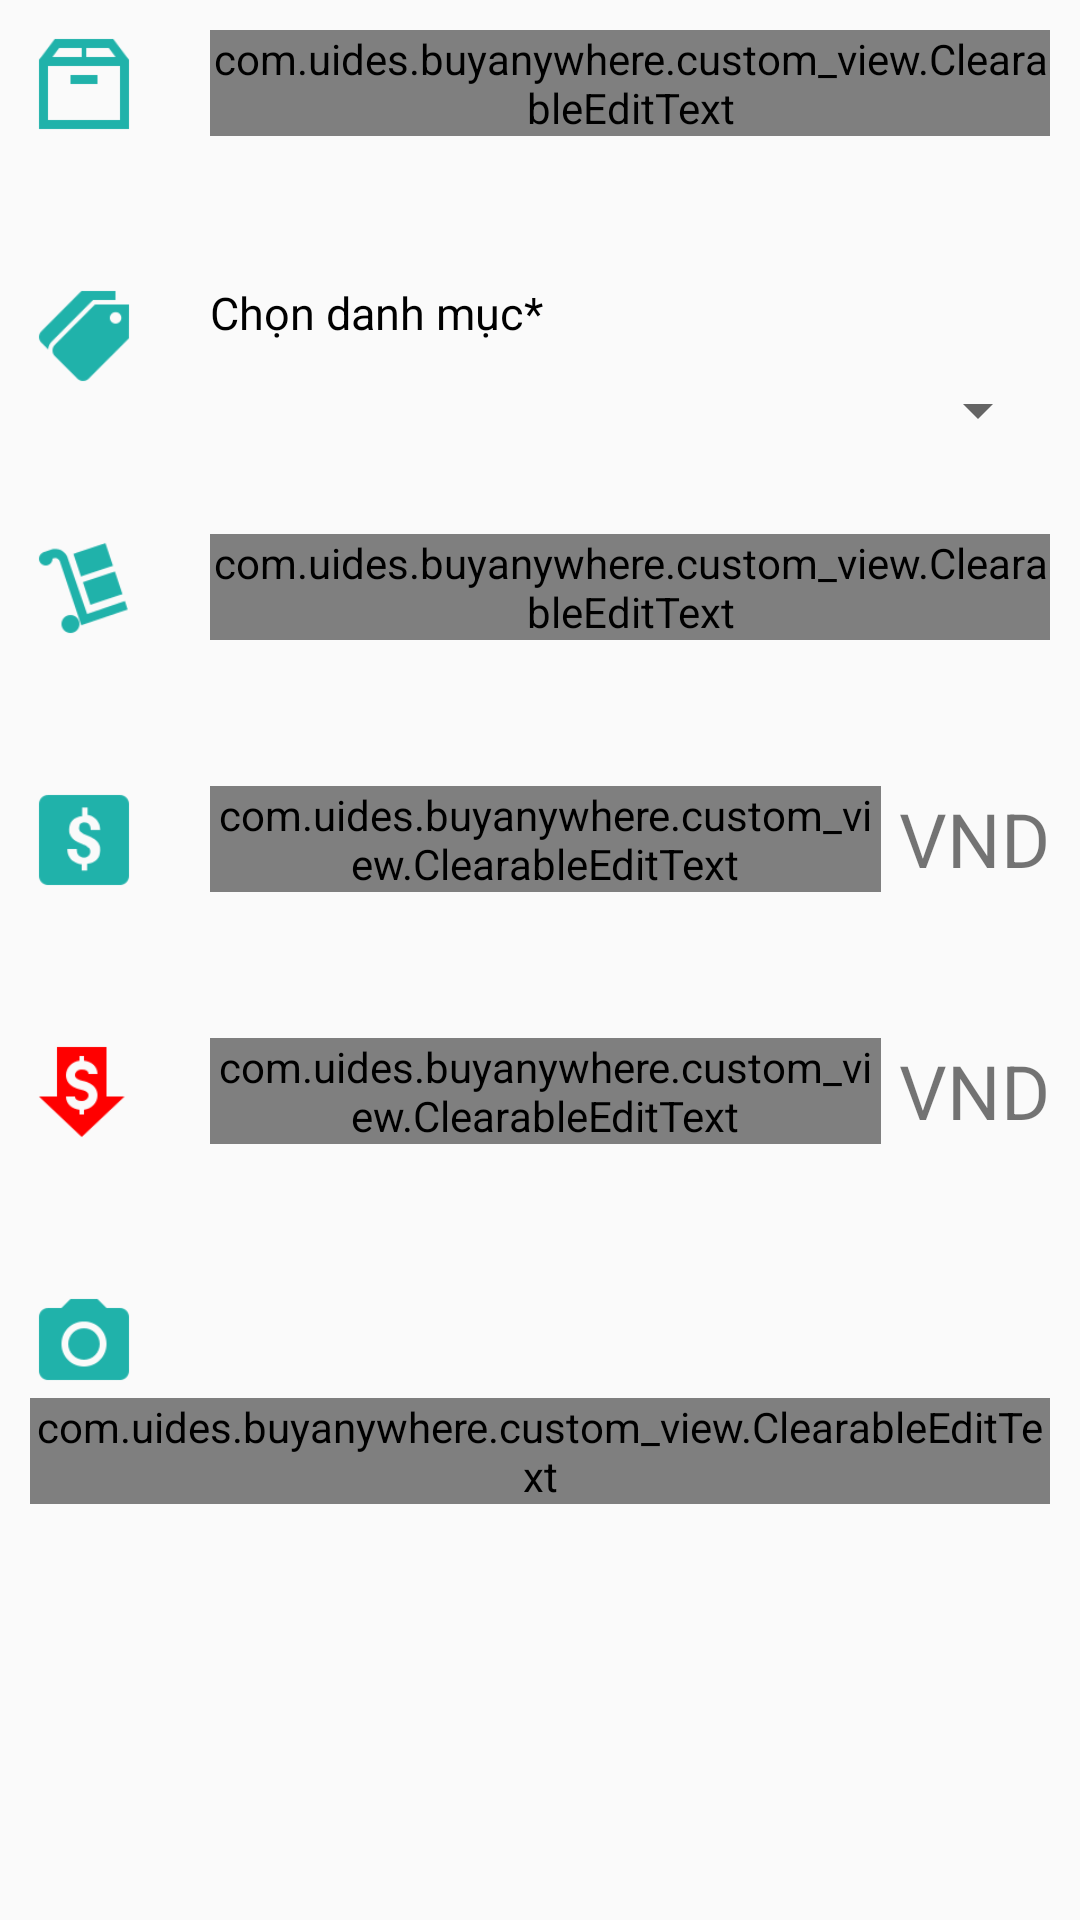

Where icons sit on this 1080*1920 app screen, as (x1, y1, x2, y2):
camera: (39, 1299, 129, 1380)
off price: (39, 1047, 125, 1137)
price: (39, 795, 129, 885)
product: (39, 39, 129, 129)
quantity: (39, 543, 128, 633)
tags: (39, 291, 129, 381)
